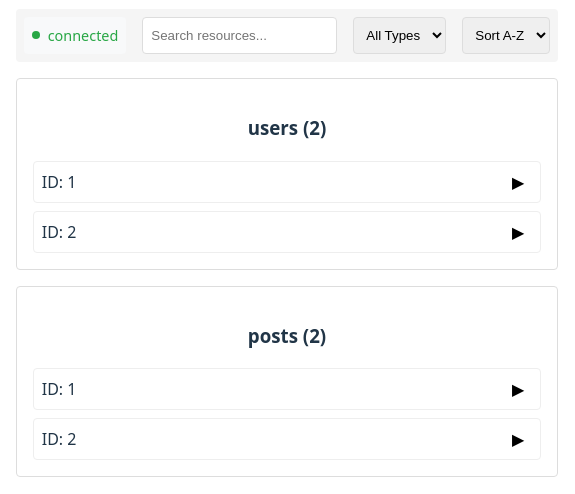
it: StateInspector › filters resources by search term
Expected: the heading "users (2)" is shown, [248, 115, 326, 140]
Note: Enter search term
Type "John" into the field with placeholder "Search resources...".
click(240, 36); type("John")  # box [142, 17, 337, 54]
Wait 50 ms
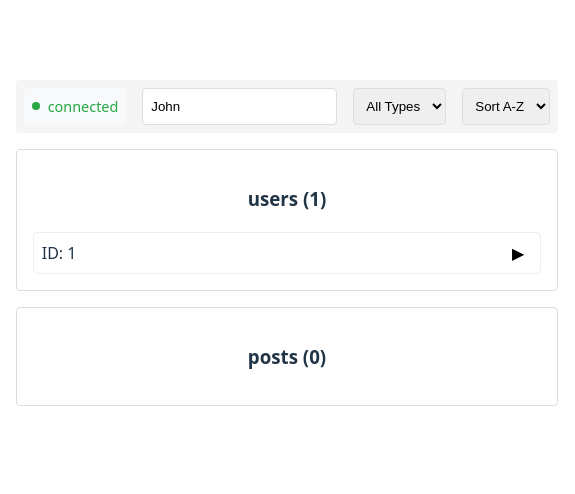
Expected: the text "ID: 1" is shown, [42, 241, 76, 265]
Result: the text "ID: 2" is gone
